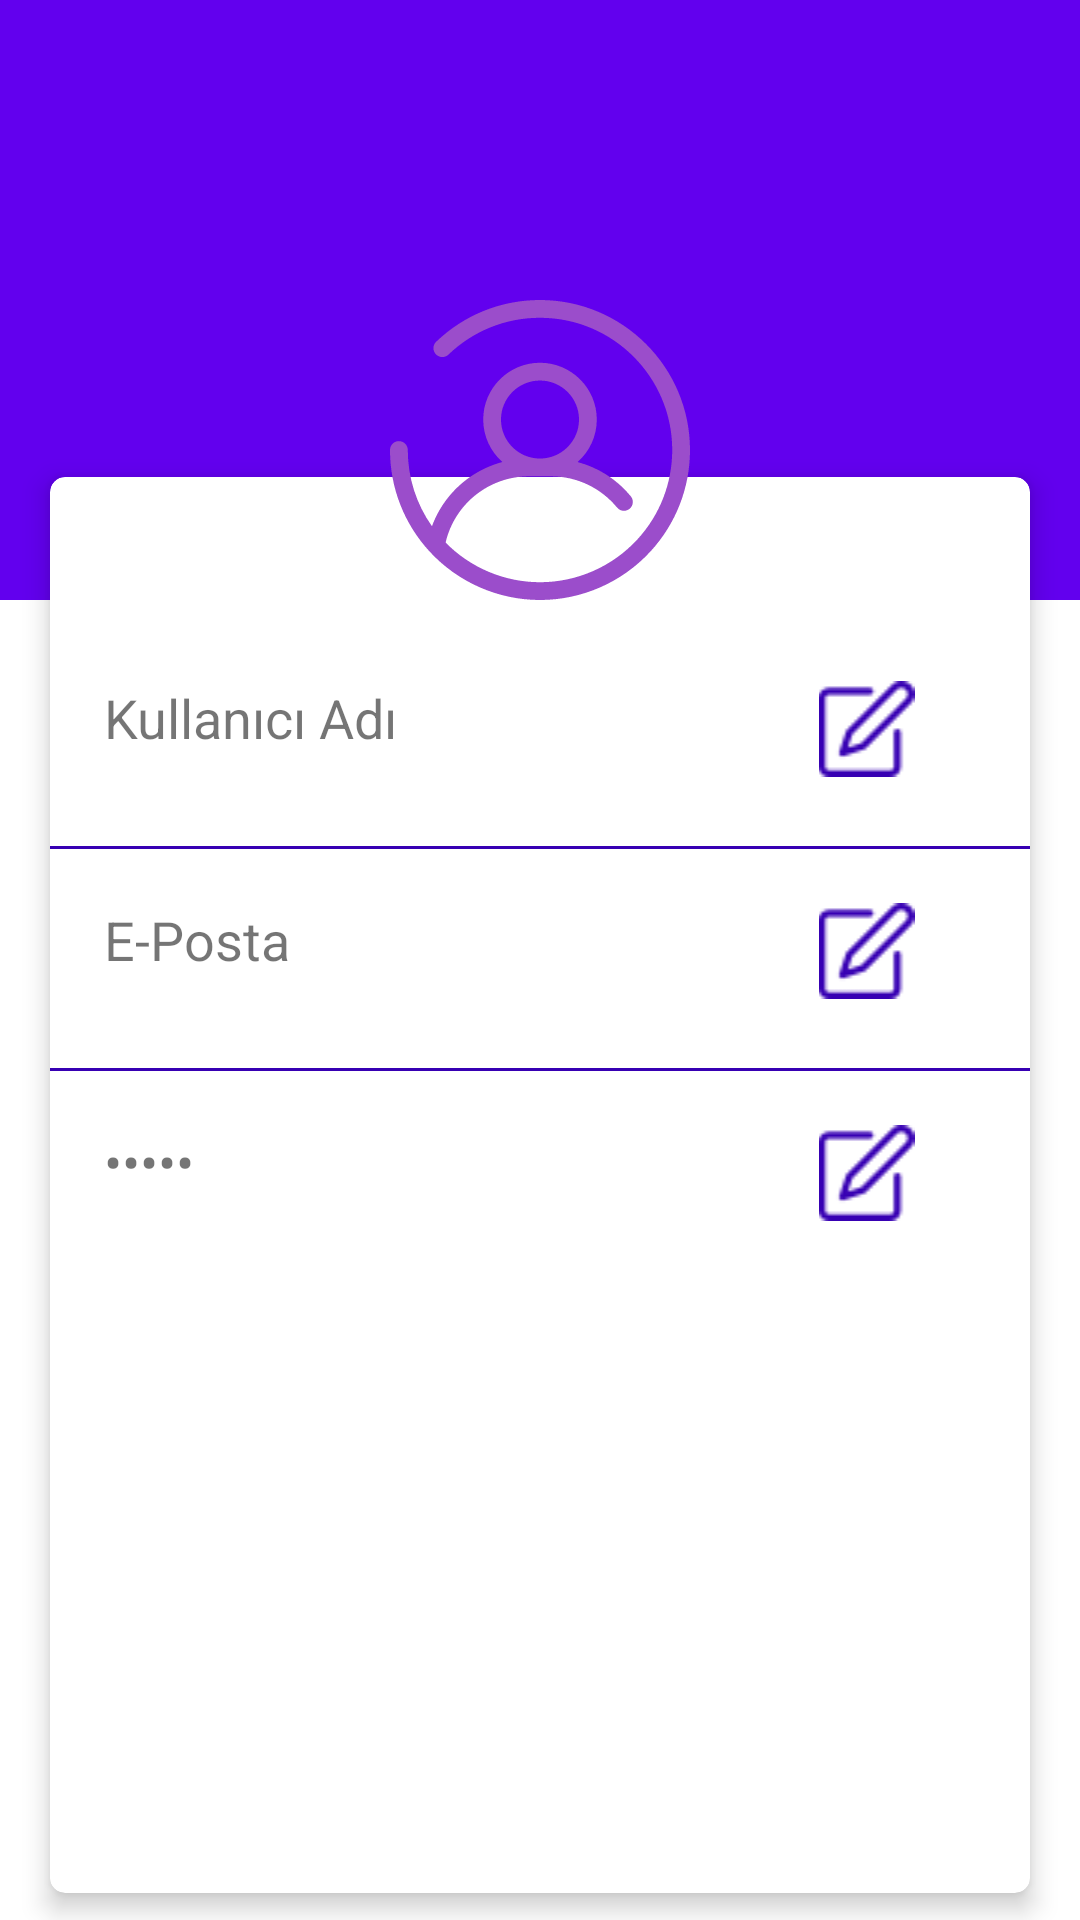

Named icons in this screenshot (1080 x 1920) and their centers, point (x, y):
edit: point (867, 729), point (867, 951), point (867, 1173)
profile: point (540, 450)
